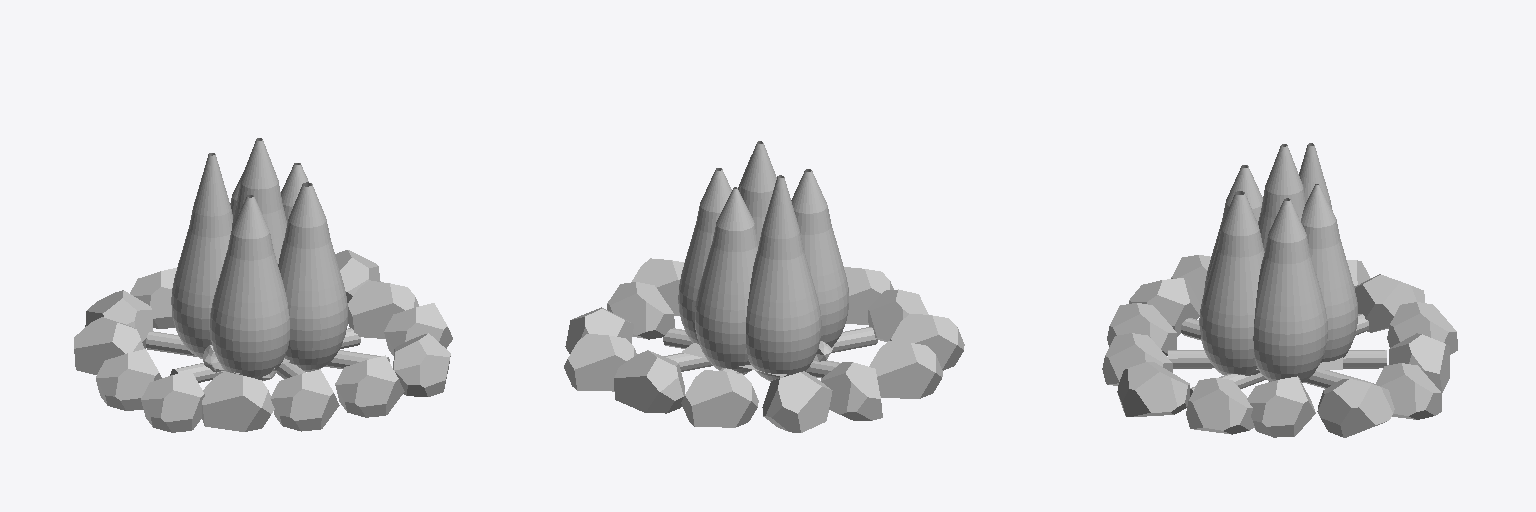
Rendered from campfire.obj.
The picture shows the model from 3 angles: view 1: azimuth 30°, elevation 25°; view 2: azimuth 150°, elevation 25°; view 3: azimuth 270°, elevation 25°; orthographic projection.
Visible parts, largest first — view 1: Rock_Type2_04.019_Cube.021; view 2: Rock_Type2_04.019_Cube.021; view 3: Rock_Type2_04.019_Cube.021.
Boxes of the visible parts, <box> form: Rock_Type2_04.019_Cube.021: <box>74,138,452,432</box>; Rock_Type2_04.019_Cube.021: <box>564,141,964,432</box>; Rock_Type2_04.019_Cube.021: <box>1102,143,1457,437</box>.
Size of the model in its own units: 1.61 by 1.06 by 1.51.